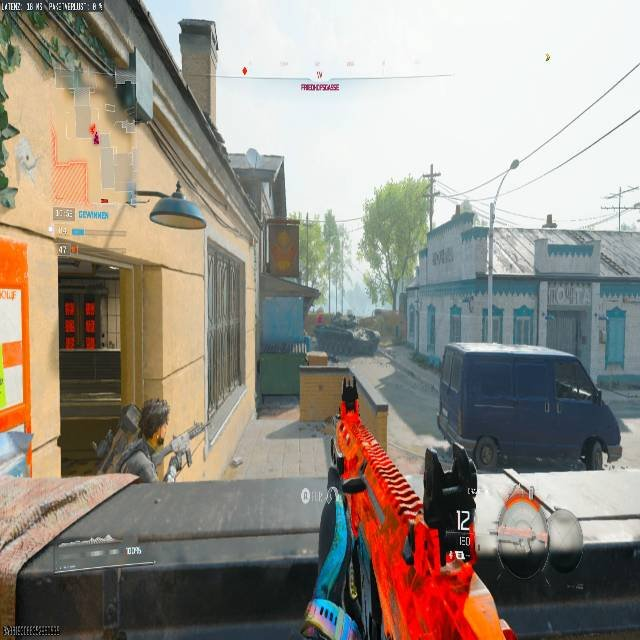head: (136, 399, 170, 442)
player: (92, 399, 177, 481)
